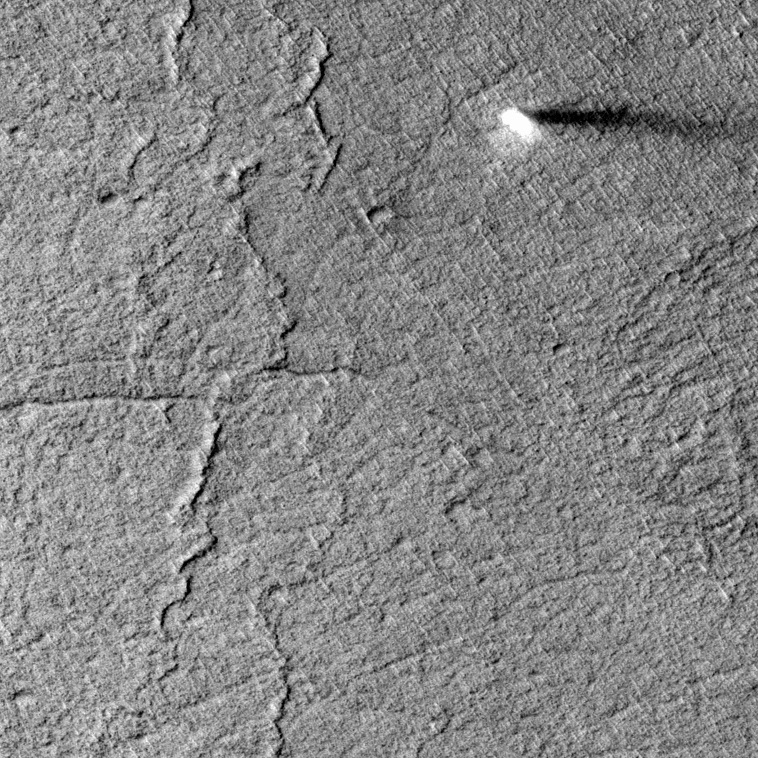dust_devil: (500, 105, 729, 152)
